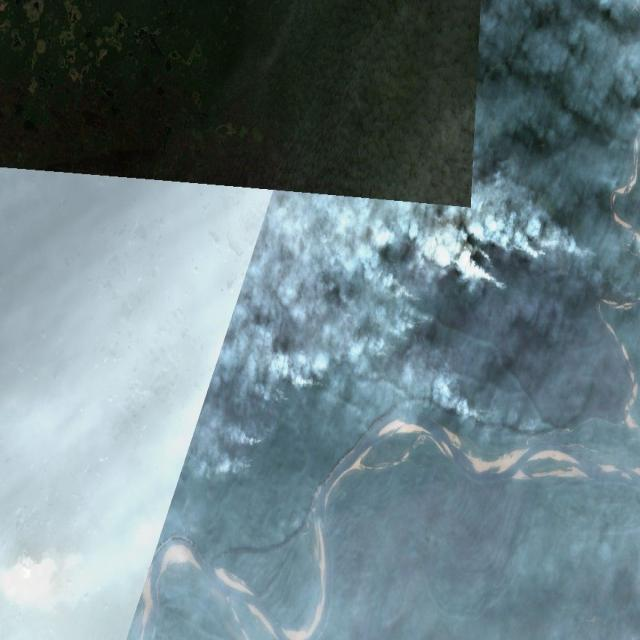fire: (364, 222, 596, 429), (190, 214, 357, 478)
